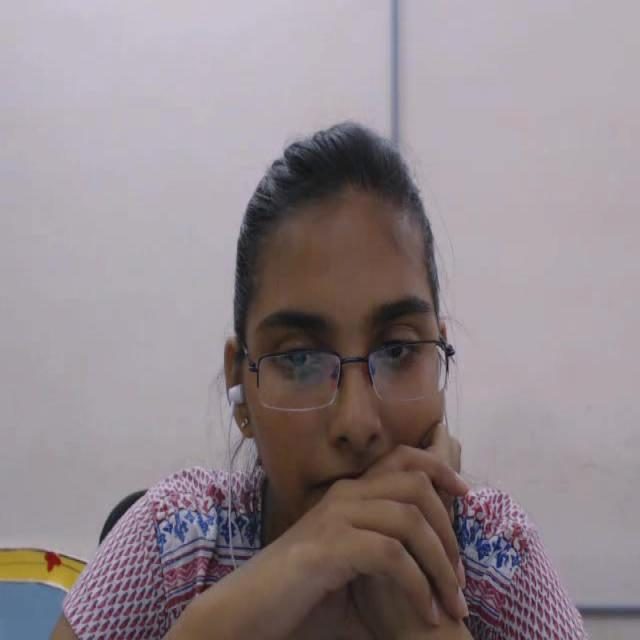Bored: (203, 113, 499, 544)
